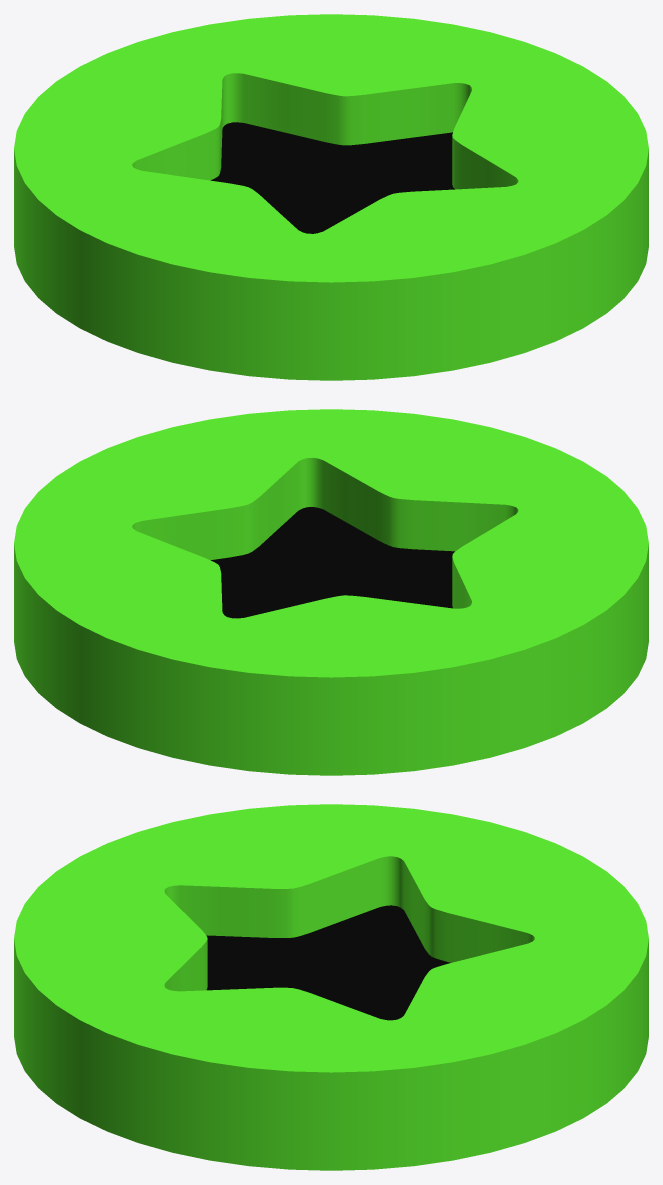
Rendered from Performance-Great.FBX.
3 renders of one model, top to bottom at view 1: azimuth 30°, elevation 25°; view 2: azimuth 150°, elevation 25°; view 3: azimuth 270°, elevation 25°, orthographic.
Parts seen in each view (by area): view 1: Great-Perf_LOD0; view 2: Great-Perf_LOD0; view 3: Great-Perf_LOD0.
Boxes of the visible parts, x1=… form: Great-Perf_LOD0: x1=14, y1=14, x2=648, y2=380; Great-Perf_LOD0: x1=14, y1=409, x2=648, y2=775; Great-Perf_LOD0: x1=14, y1=804, x2=648, y2=1170.
Size of what is drawn, in the model's own units: 0.575 by 0.0982 by 0.575.
